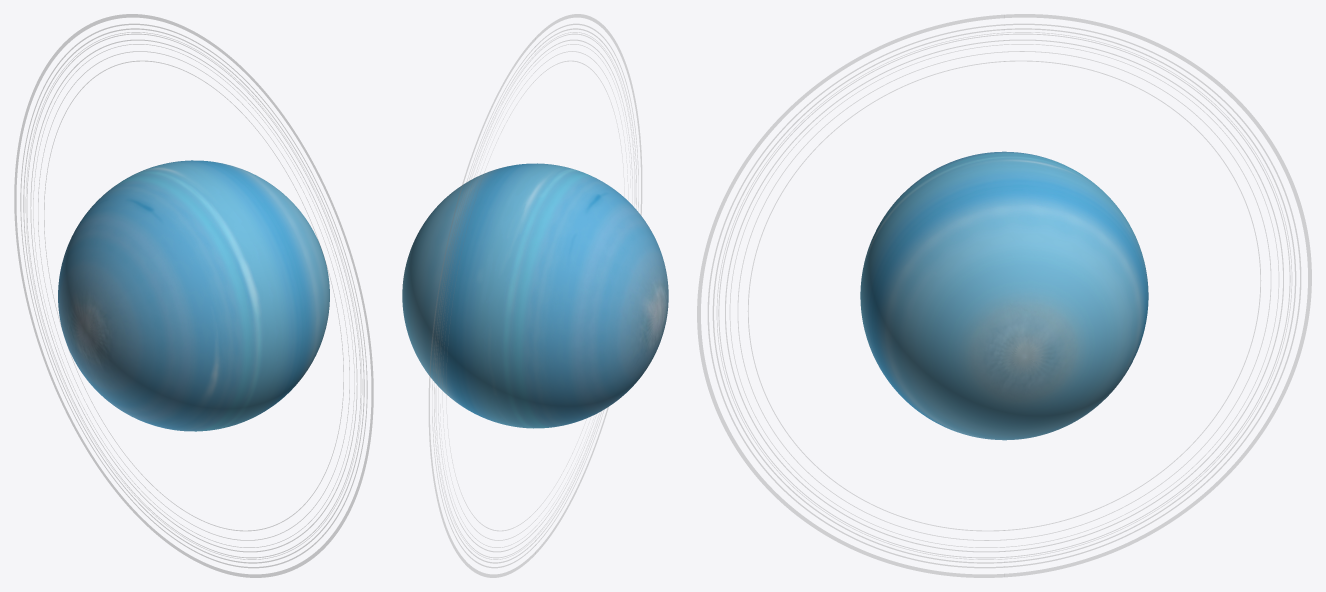
The model's file is 13907_Uranus_v2_l3.obj.
The picture shows the model from 3 angles, left to right: view 1: azimuth 30°, elevation 25°; view 2: azimuth 150°, elevation 25°; view 3: azimuth 270°, elevation 25°; orthographic projection. The views are drawn at different scales.
Visible parts, largest first — view 1: 13907_Uranus, 13907_Uranus_rings; view 2: 13907_Uranus, 13907_Uranus_rings; view 3: 13907_Uranus, 13907_Uranus_rings.
Part boxes in pixels (box(x1,y1,x2,y2)): 13907_Uranus: box(58, 160, 329, 431); 13907_Uranus_rings: box(14, 14, 373, 577); 13907_Uranus: box(402, 163, 668, 428); 13907_Uranus_rings: box(429, 14, 641, 577); 13907_Uranus: box(860, 151, 1148, 440); 13907_Uranus_rings: box(697, 14, 1311, 577).
Bounding box in the file's own units: 460 × 984 × 975.
2 materials, 1 textured.
